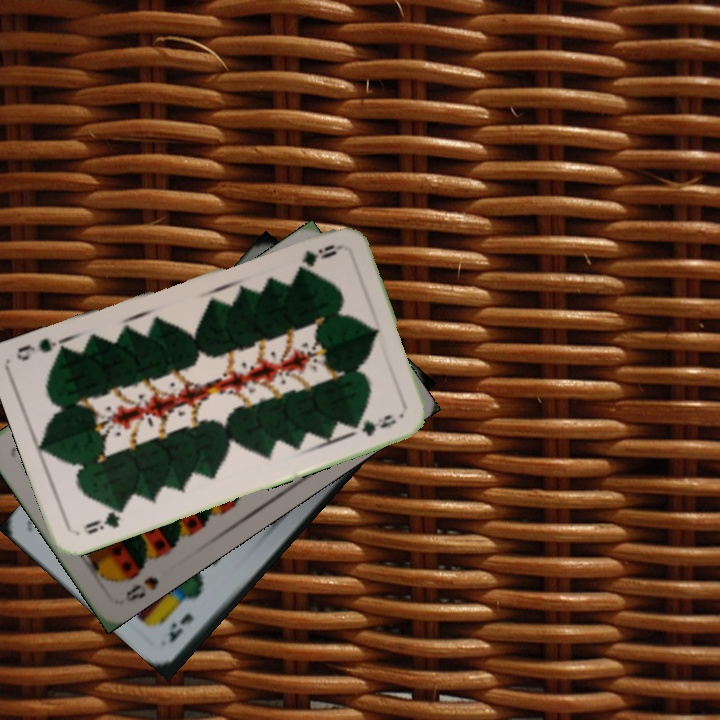EK: (164, 609, 197, 646)
G9: (80, 503, 128, 537), (298, 240, 343, 268)
S8: (121, 572, 161, 605)
